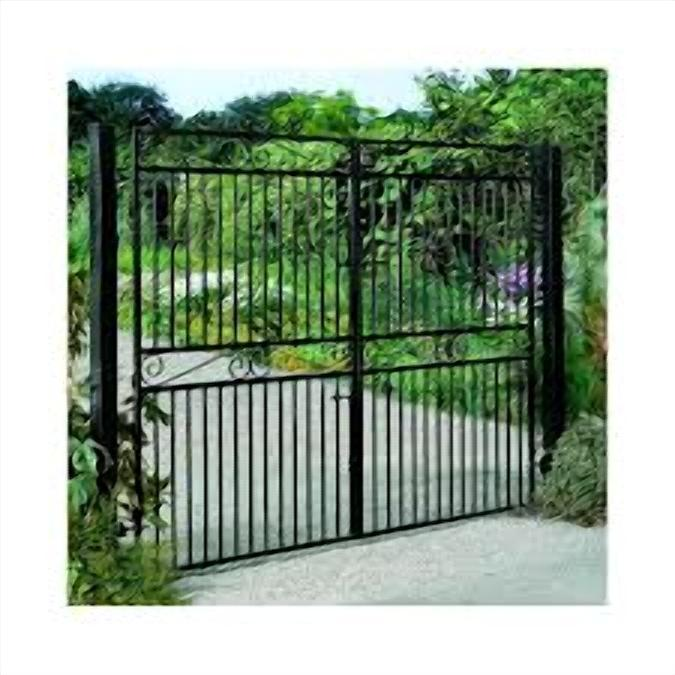Gate: (85, 119, 563, 583)
